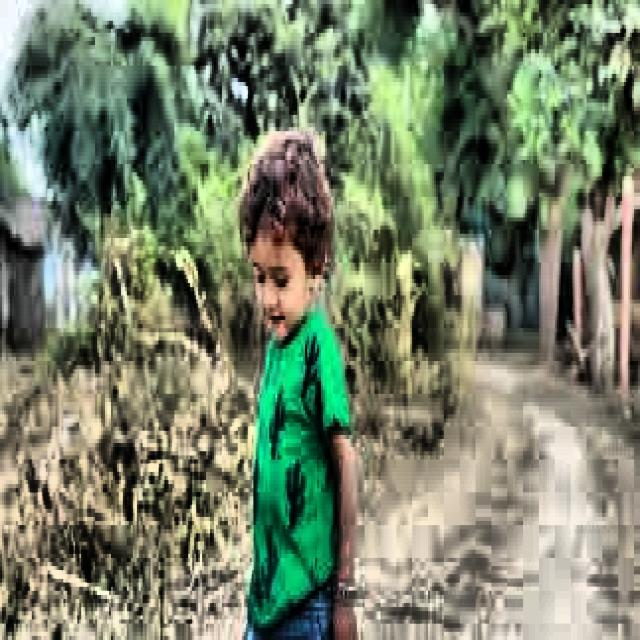Human: (224, 92, 370, 633)
